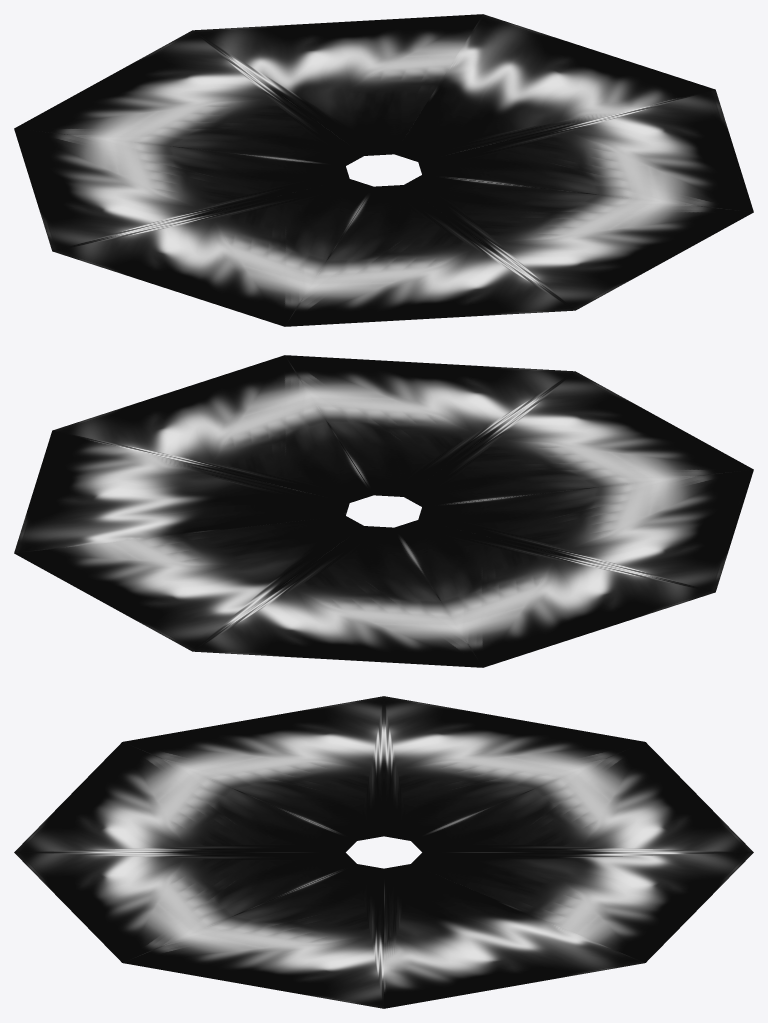
The model's file is effect.obj.
3 views of the same model, one above another, from view 1: azimuth 30°, elevation 25°; view 2: azimuth 150°, elevation 25°; view 3: azimuth 270°, elevation 25° (orthographic). The views are drawn at different scales.
Parts seen in each view (by area): view 1: Circle; view 2: Circle; view 3: Circle.
Boxes of the visible parts, x1,y1,x2,y2 form: Circle: [14, 14, 753, 326]; Circle: [14, 355, 753, 667]; Circle: [14, 696, 753, 1008].
Size of the model in its own units: 2 by 0 by 2.
1 material, 1 textured.
